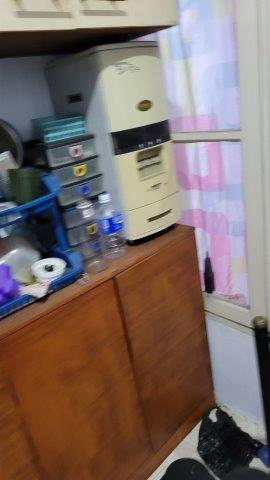botolplastik: (73, 202, 106, 280), (98, 197, 129, 259)
